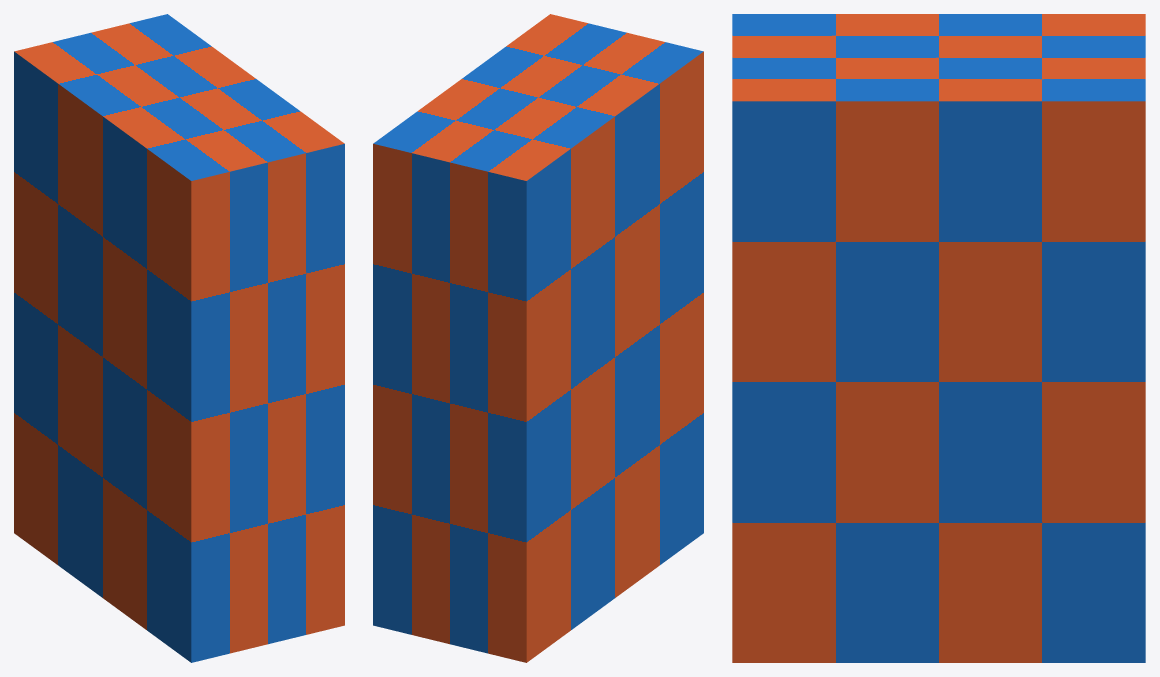
File: large-transformed.glb
3 views of the same model, side by side, from view 1: azimuth 30°, elevation 25°; view 2: azimuth 150°, elevation 25°; view 3: azimuth 270°, elevation 25° (orthographic). The views are drawn at different scales.
Visible parts, largest first — view 1: CalibrationCube; view 2: CalibrationCube; view 3: CalibrationCube.
Boxes of the visible parts, left/top/right/bottom form: CalibrationCube: left=14, top=14, right=344, bottom=662; CalibrationCube: left=373, top=14, right=703, bottom=662; CalibrationCube: left=732, top=14, right=1145, bottom=662.
Size of the model in its own units: 20 by 60 by 40.
1 material, 1 textured.
